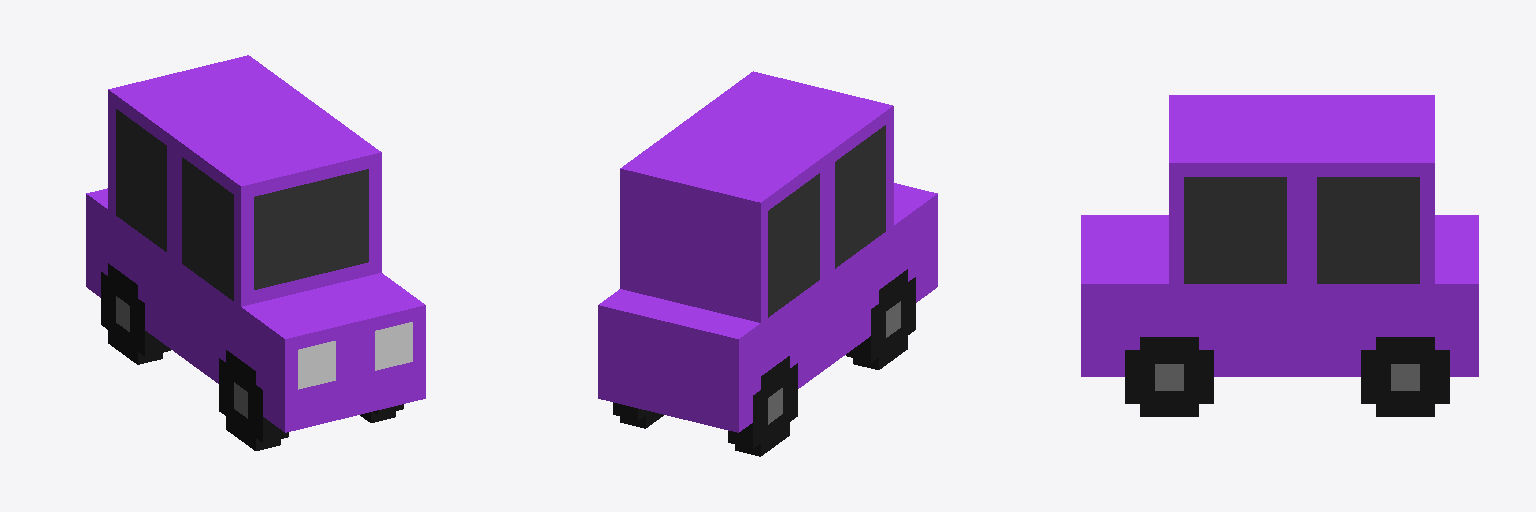
3 renders of one model, left to right at view 1: azimuth 30°, elevation 25°; view 2: azimuth 150°, elevation 25°; view 3: azimuth 270°, elevation 25°, orthographic.
Parts seen in each view (by area): view 1: standard_purple; view 2: standard_purple; view 3: standard_purple.
Part boxes in pixels (x1,y1,x2,y2): standard_purple: (86, 55, 425, 450); standard_purple: (598, 71, 937, 456); standard_purple: (1081, 95, 1478, 416).
Bounding box in the file's own units: 11 × 19 × 27.
Materials: 1 (1 with a texture image).